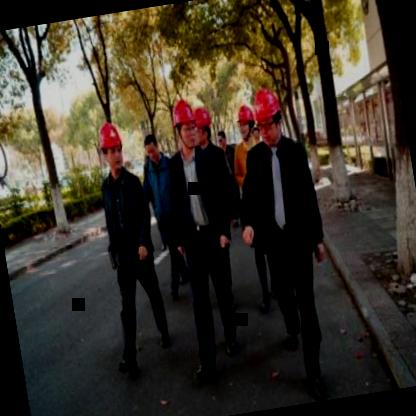head: (139, 129, 162, 164)
helmet: (249, 81, 287, 145), (94, 116, 128, 176), (168, 94, 200, 151), (188, 96, 216, 147), (232, 97, 260, 145)
